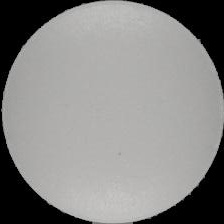76237-222: (0, 0, 224, 224)
